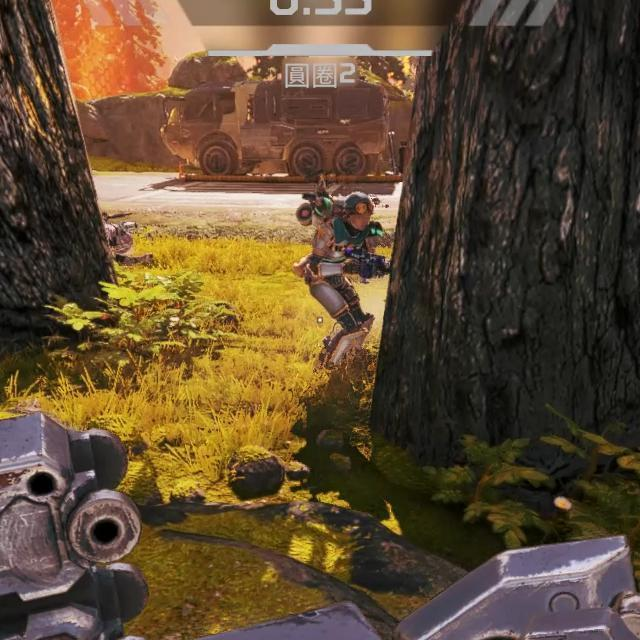avatar: (290, 187, 391, 372)
